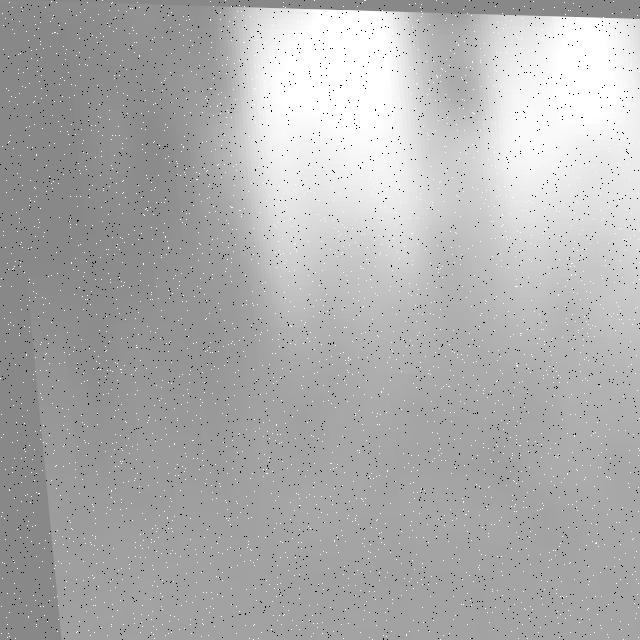person: (217, 6, 452, 363), (465, 12, 640, 474)
